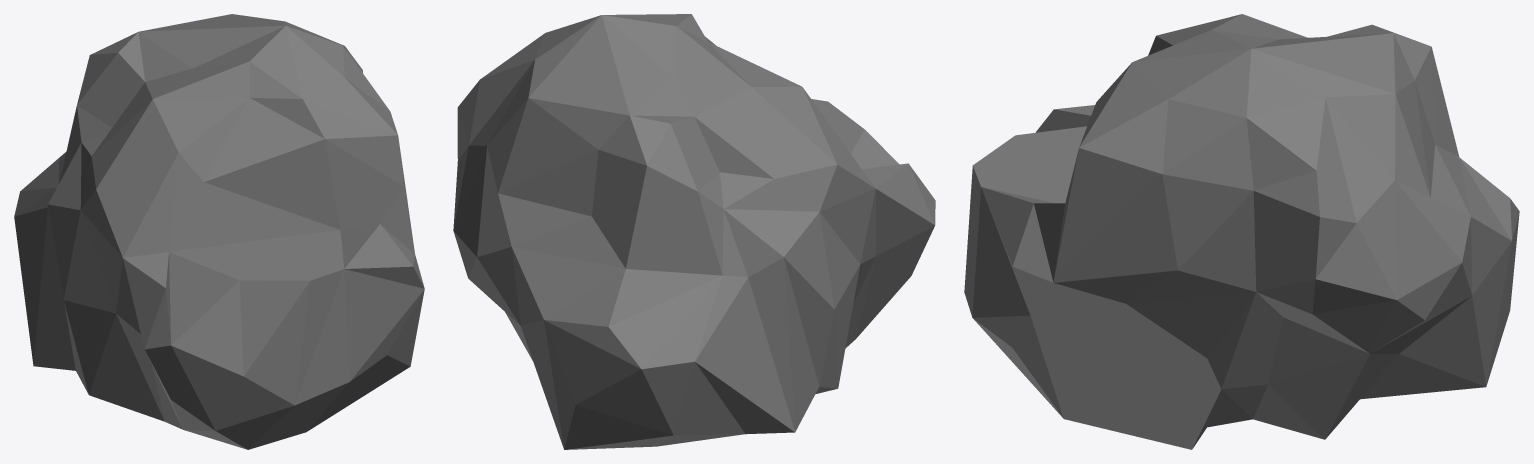
File: Stone_5.fbx
The picture shows the model from 3 angles, left to right: view 1: azimuth 30°, elevation 25°; view 2: azimuth 150°, elevation 25°; view 3: azimuth 270°, elevation 25°; orthographic projection. The views are drawn at different scales.
Visible parts, largest first — view 1: Stone_5; view 2: Stone_5; view 3: Stone_5.
Part boxes in pixels (left/top/right/bottom): Stone_5: left=14, top=14, right=424, bottom=449; Stone_5: left=453, top=14, right=935, bottom=449; Stone_5: left=964, top=14, right=1519, bottom=449.
Bounding box in the file's own units: 3.14 × 2.9 × 3.83.
